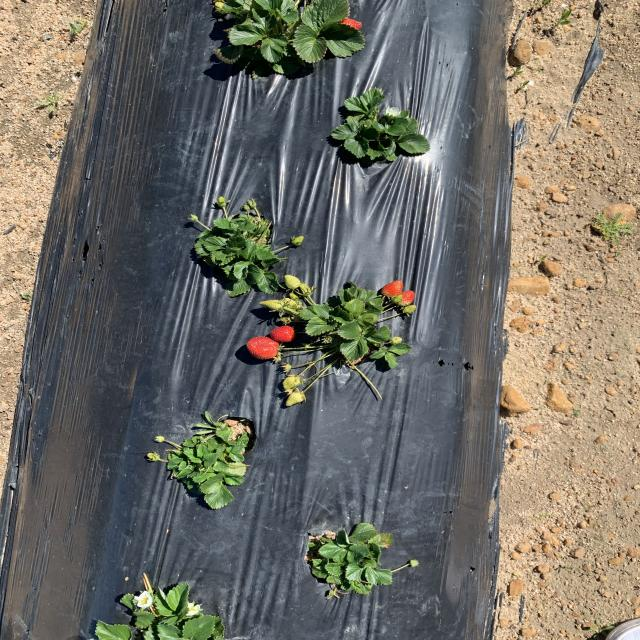unripe: (248, 337, 278, 358), (268, 326, 298, 342), (380, 280, 404, 298), (343, 16, 365, 32), (396, 290, 414, 309)
